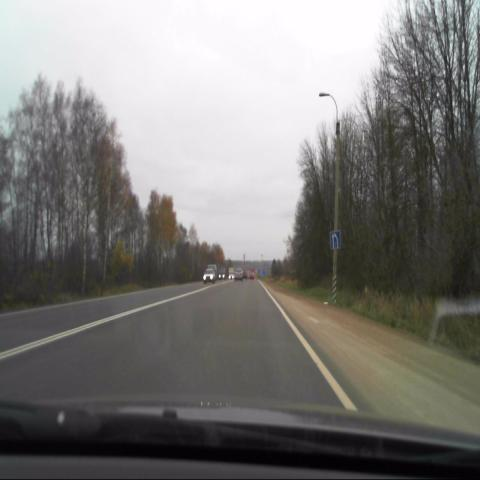5_15_5: (330, 230, 341, 251)
